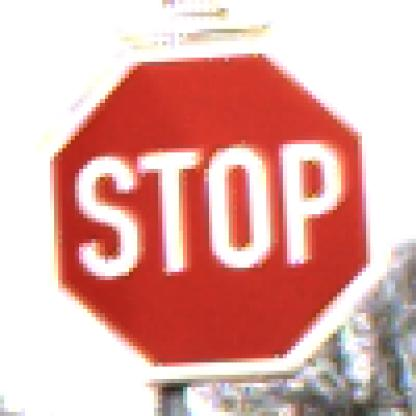stop: (38, 49, 380, 372)
